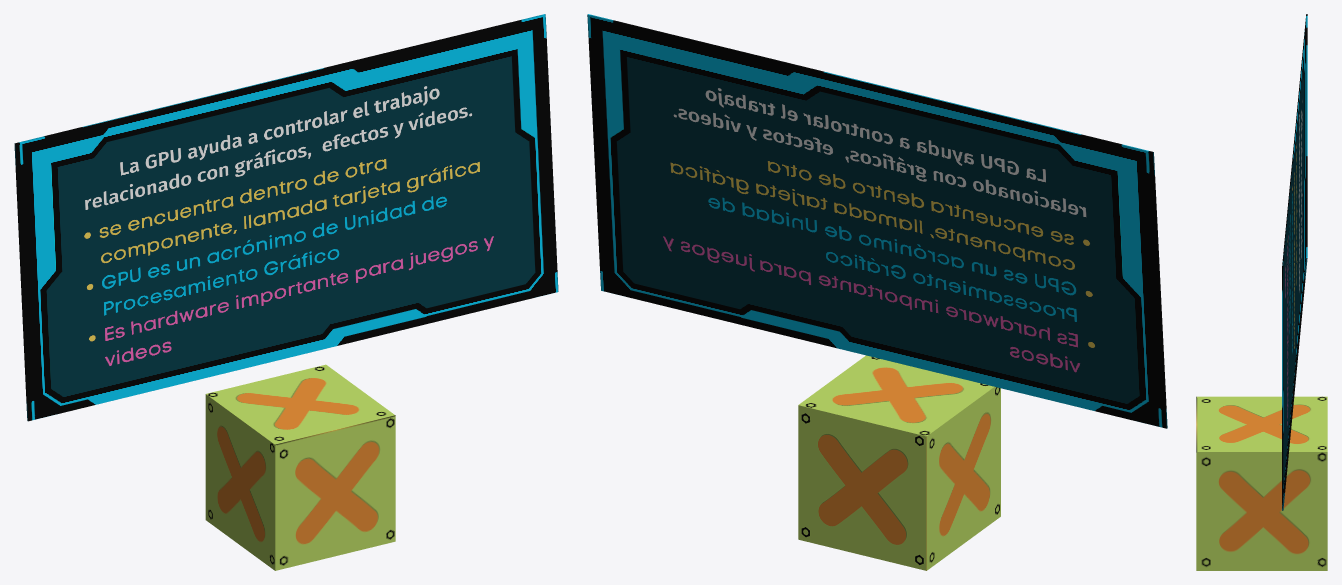
Rendered from gpu-aux.glb.
3 renders of one model, left to right at view 1: azimuth 30°, elevation 25°; view 2: azimuth 150°, elevation 25°; view 3: azimuth 270°, elevation 25°, orthographic. The views are drawn at different scales.
Parts seen in each view (by area): view 1: Plane, Cube; view 2: Plane, Cube; view 3: Cube, Plane.
Boxes of the visible parts, box(x1,y1,x2,y2) form: Plane: box(14, 14, 558, 421); Cube: box(205, 364, 395, 570); Plane: box(587, 14, 1167, 428); Cube: box(798, 355, 1000, 570); Cube: box(1196, 396, 1327, 570); Plane: box(1282, 14, 1307, 510).
Size of the model in its own units: 8.81 by 6.88 by 2.
2 materials, 2 textured.
